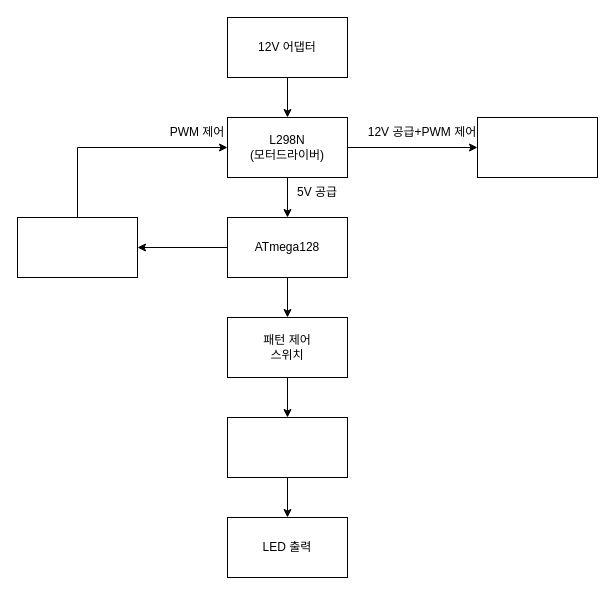
This 615x595 diagram has some shape labels left out. Here are the shapes that lost their labels. From the top down, the centre of each, then its label:
the point at 537,147: DC 모터
the point at 77,247: PWM 제어 스위치
the point at 287,447: 74HC595
